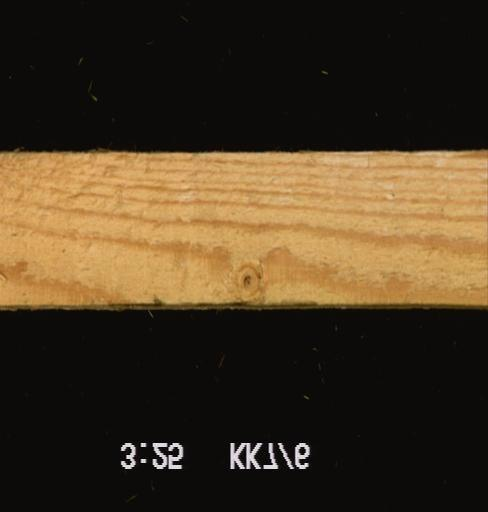small_knot: (228, 262, 265, 302)
